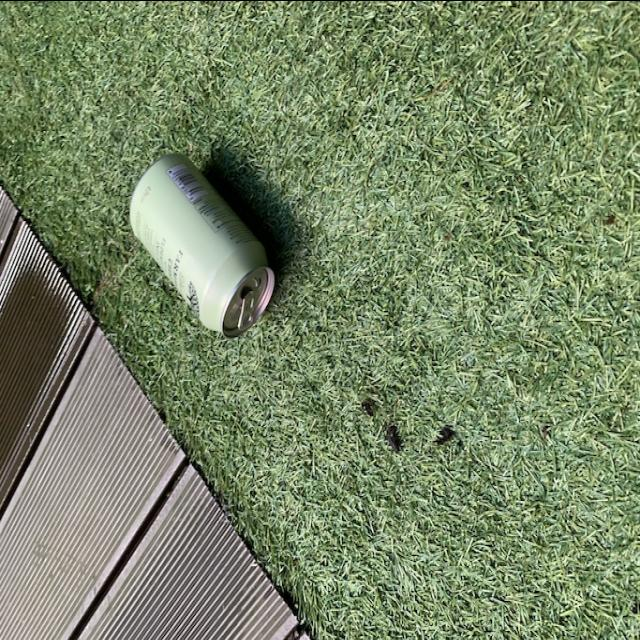litter: (130, 156, 274, 336)
